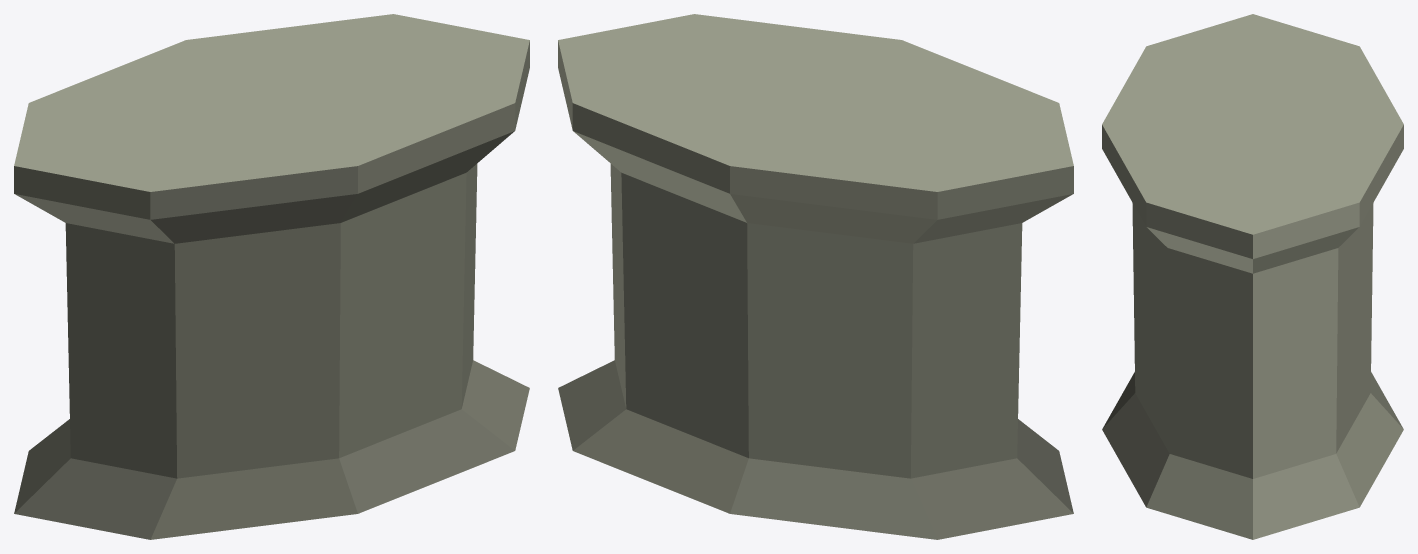
The picture shows the model from 3 angles, left to right: view 1: azimuth 30°, elevation 25°; view 2: azimuth 150°, elevation 25°; view 3: azimuth 270°, elevation 25°; orthographic projection. The views are drawn at different scales.
Visible parts, largest first — view 1: 88eec0cf178f19f00d7a11382c1a7ae6f2e30d33d777ff153226f66c095e; view 2: 88eec0cf178f19f00d7a11382c1a7ae6f2e30d33d777ff153226f66c095e; view 3: 88eec0cf178f19f00d7a11382c1a7ae6f2e30d33d777ff153226f66c095e.
Boxes of the visible parts, x1,y1,x2,y2 form: 88eec0cf178f19f00d7a11382c1a7ae6f2e30d33d777ff153226f66c095e: (14, 14, 529, 539); 88eec0cf178f19f00d7a11382c1a7ae6f2e30d33d777ff153226f66c095e: (558, 14, 1073, 539); 88eec0cf178f19f00d7a11382c1a7ae6f2e30d33d777ff153226f66c095e: (1102, 14, 1403, 539).
Bounding box in the file's own units: 1.35 × 0.87 × 0.78.
